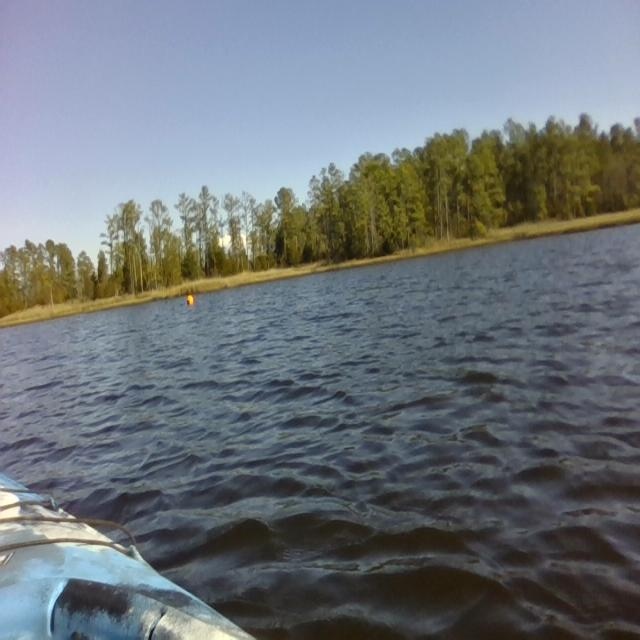Buoy: (184, 289, 200, 314)
